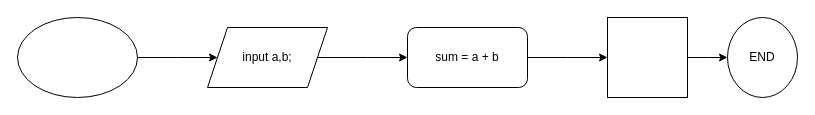
Image size: 815x115. Some labels were removed from this diagram. The box of each missing label's shape, as (x1, y1, x2, y2) in pixels:
printf("sum"): (606, 16, 688, 98)
start: (16, 16, 138, 98)
